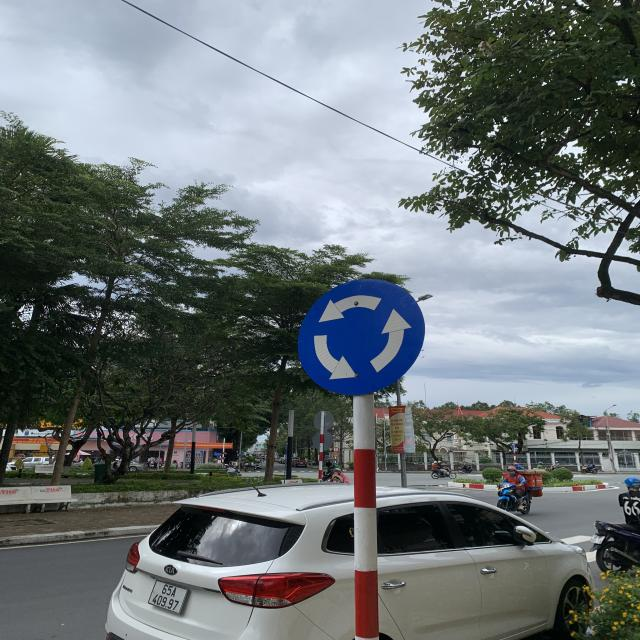Xe_Bus: (297, 279, 427, 397)
